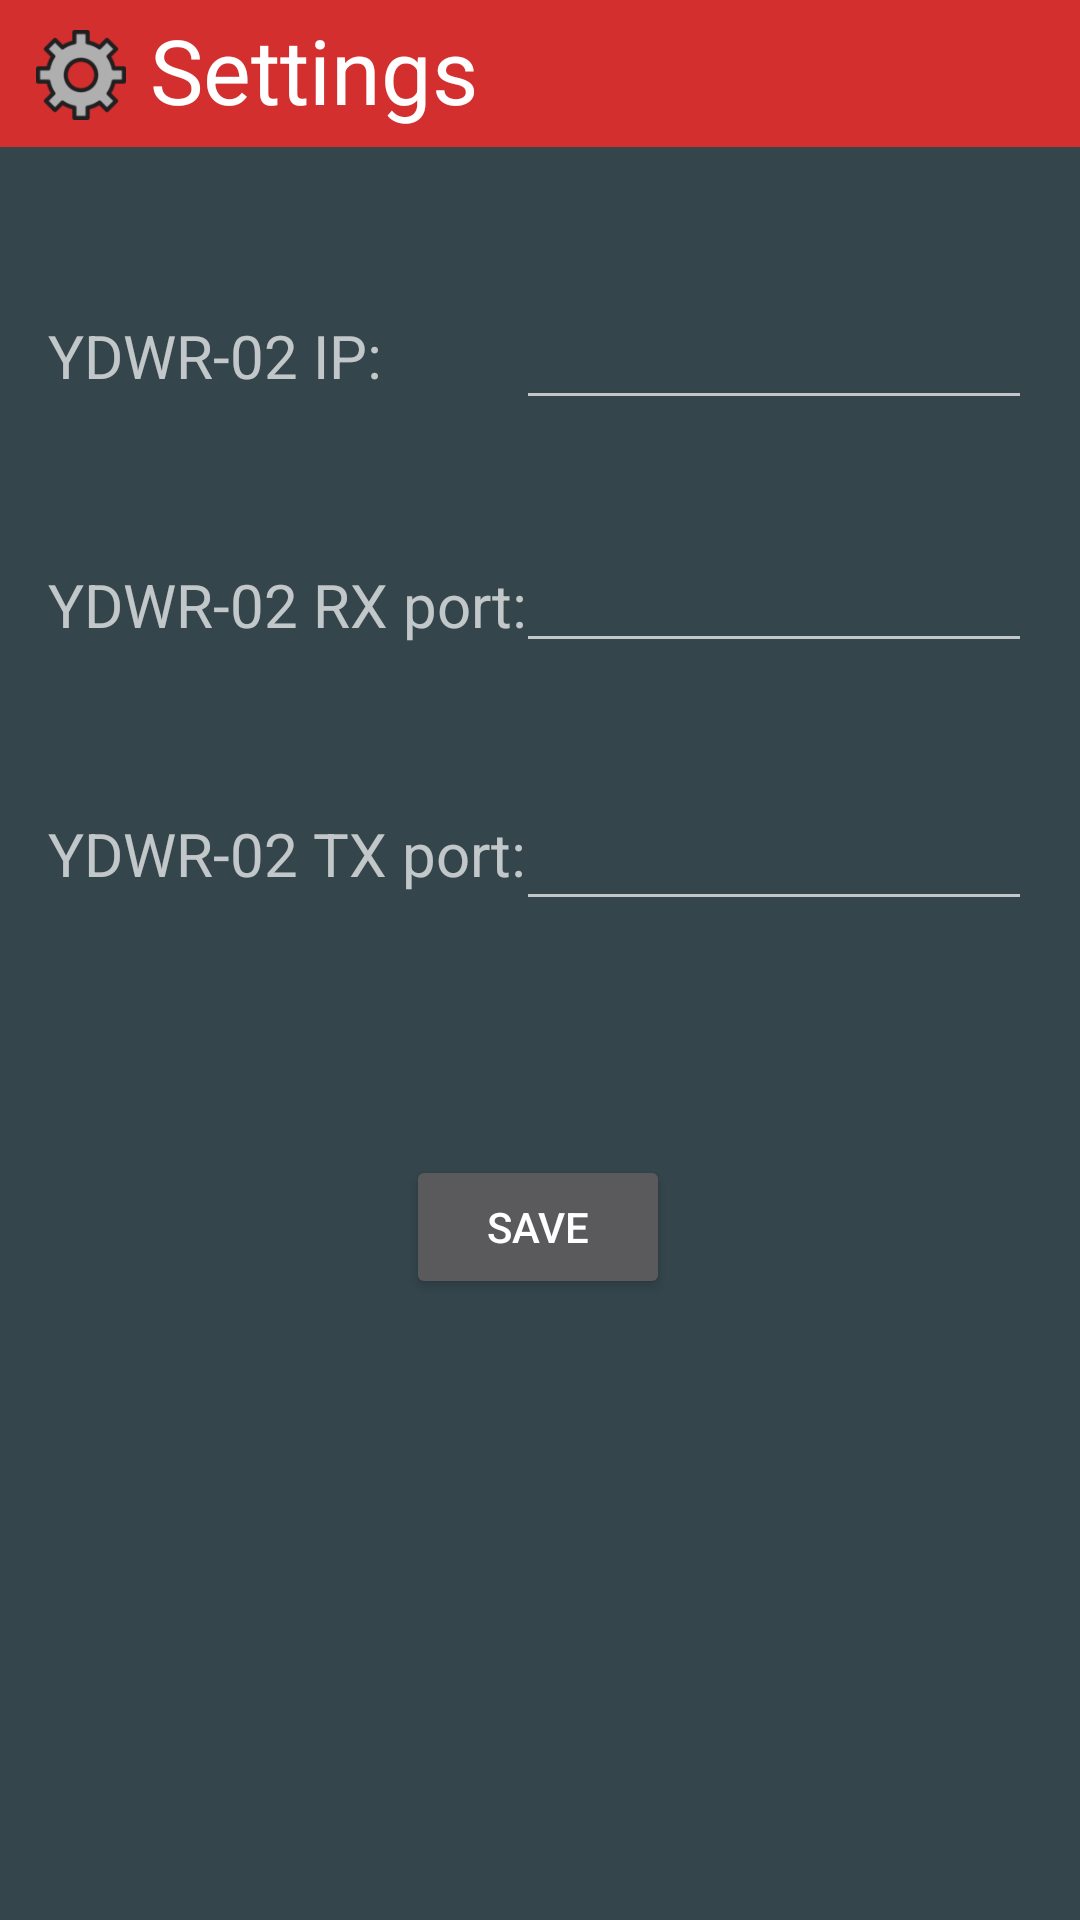

Icon click points for this 1080px x 1920px phone screenshot, format point (x, y):
gear: point (81, 75)
